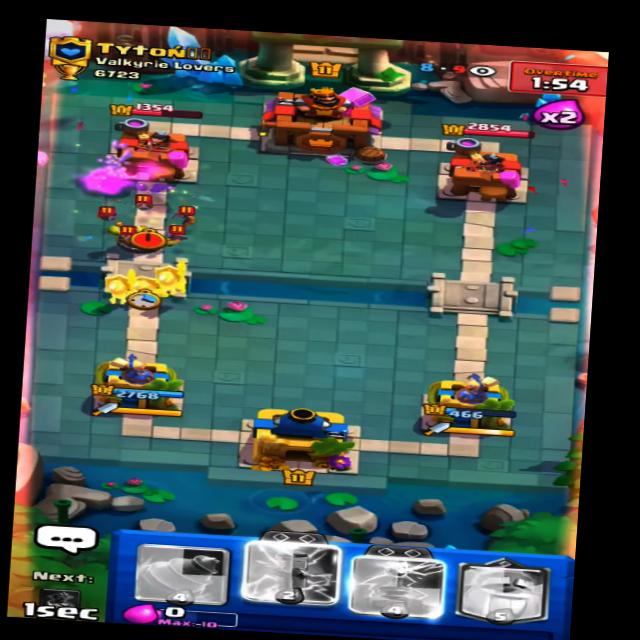bats: (134, 187, 167, 214), (171, 200, 203, 225), (160, 224, 194, 247), (90, 204, 118, 220)
